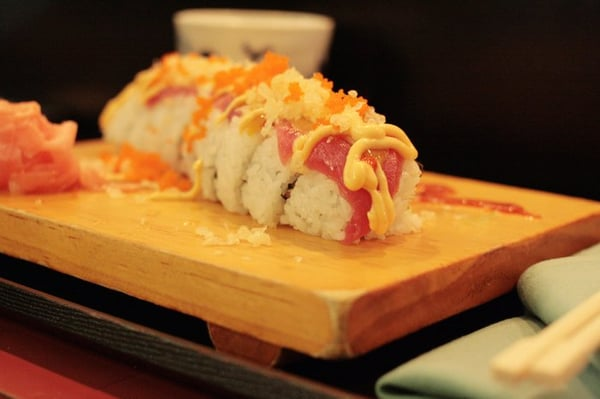sushi: (99, 48, 423, 245)
